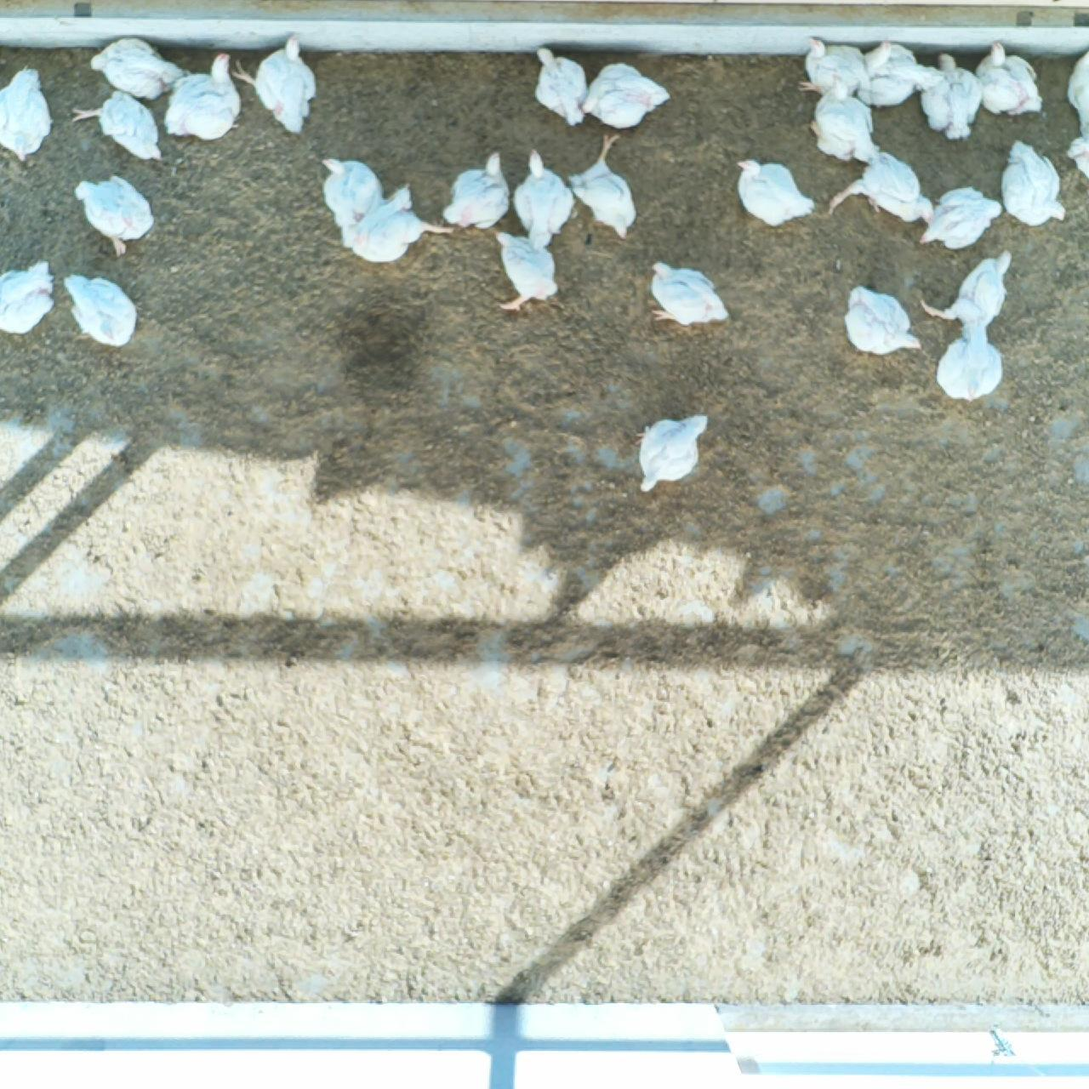chicken: (822, 150, 935, 219), (237, 38, 315, 137), (919, 248, 1014, 326), (569, 136, 641, 237), (345, 187, 440, 263), (71, 93, 162, 164), (582, 64, 672, 134), (86, 37, 185, 99), (639, 410, 710, 493), (166, 60, 242, 137), (61, 272, 138, 346), (914, 186, 1001, 250), (647, 259, 730, 326), (77, 178, 156, 246), (844, 288, 925, 354), (494, 235, 565, 309), (442, 149, 506, 231), (1004, 142, 1066, 225), (937, 324, 1001, 404), (518, 155, 573, 248), (809, 92, 878, 165), (740, 163, 816, 228), (979, 44, 1045, 117), (1, 66, 50, 162), (528, 50, 589, 124), (1, 262, 60, 338), (922, 60, 978, 139), (324, 161, 383, 227), (801, 38, 877, 88), (866, 48, 931, 104), (1074, 44, 1089, 187)
